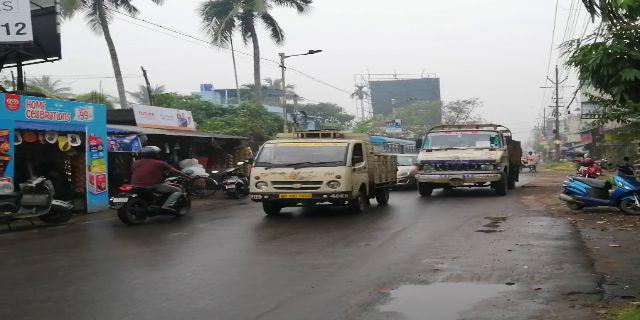Minitruck: (247, 135, 401, 222)
Motorbike: (106, 146, 198, 226), (559, 175, 640, 218)
Truck: (420, 122, 524, 193)
